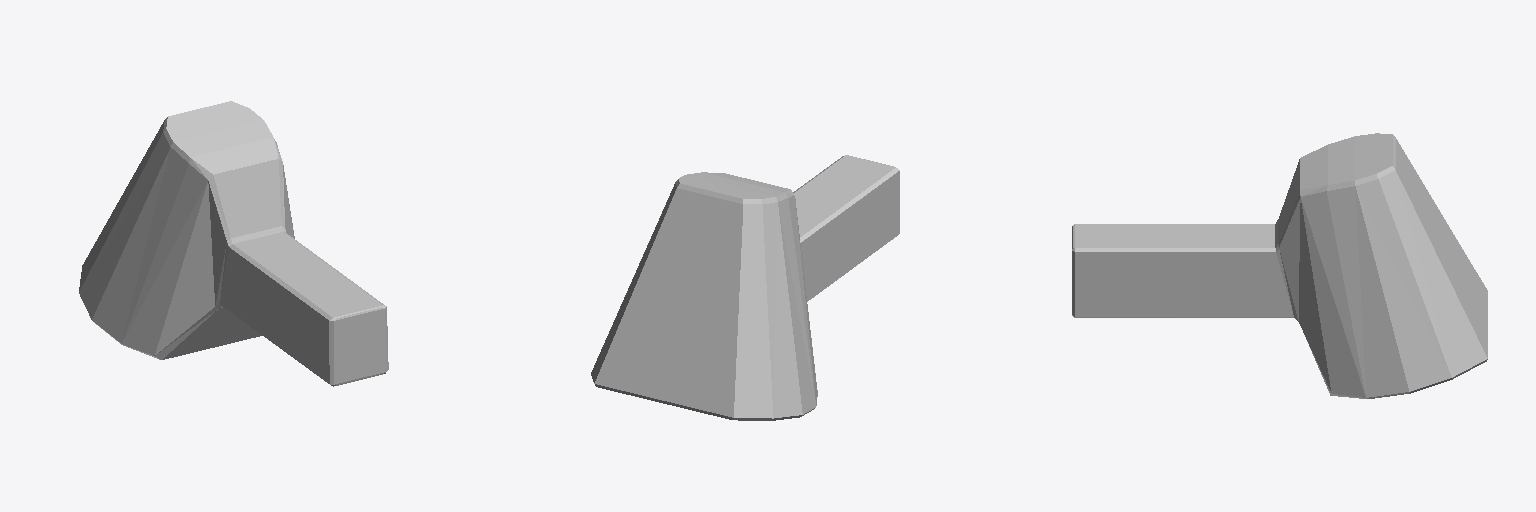
Rendered from sd_prop_headlight.obj.
3 views of the same model, side by side, from view 1: azimuth 30°, elevation 25°; view 2: azimuth 150°, elevation 25°; view 3: azimuth 270°, elevation 25° (orthographic).
Parts seen in each view (by area): view 1: pCube1; view 2: pCube1; view 3: pCube1.
Part boxes in pixels (x1,y1,x2,y2): pCube1: (79,101,388,386); pCube1: (591,155,899,420); pCube1: (1072,133,1487,398).
Size of the model in its own units: 2.92 by 2.97 by 5.28.